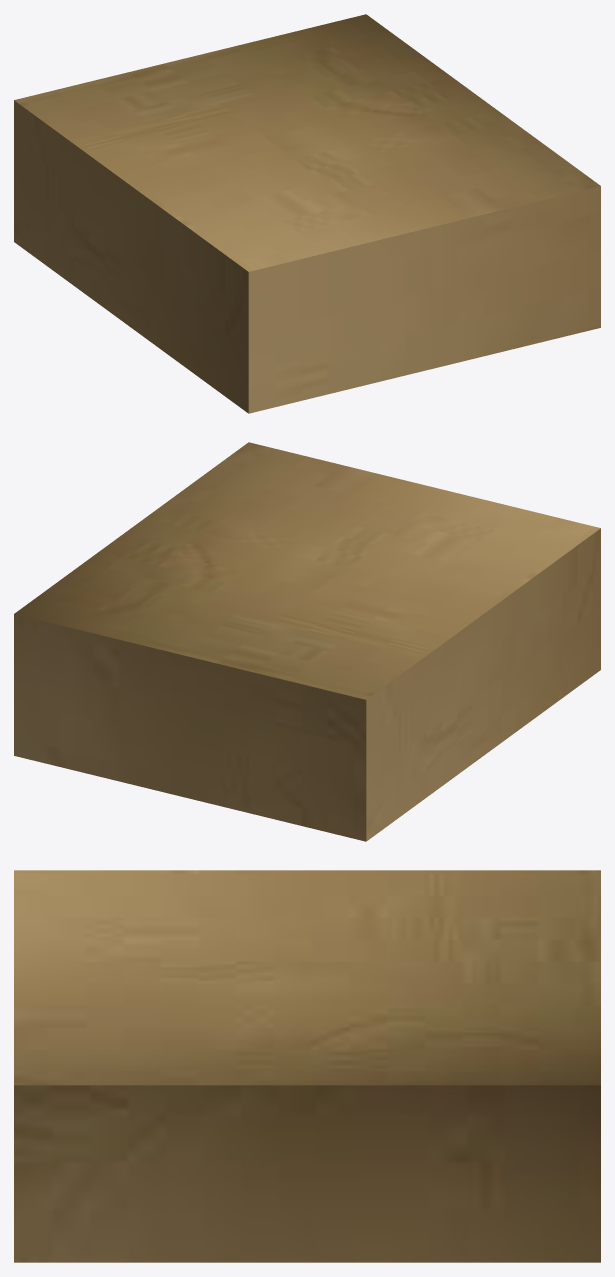
Rendered from kitchenRoom.FBX.
3 views of the same model, one above another, from view 1: azimuth 30°, elevation 25°; view 2: azimuth 150°, elevation 25°; view 3: azimuth 270°, elevation 25° (orthographic). The views are drawn at different scales.
Visible parts, largest first — view 1: Box001; view 2: Box001; view 3: Box001.
Boxes of the visible parts, box(x1,y1,x2,y2) form: Box001: box(14, 14, 600, 413); Box001: box(14, 442, 600, 841); Box001: box(14, 870, 600, 1262).
Bounding box in the file's own units: 130 × 50 × 150.
